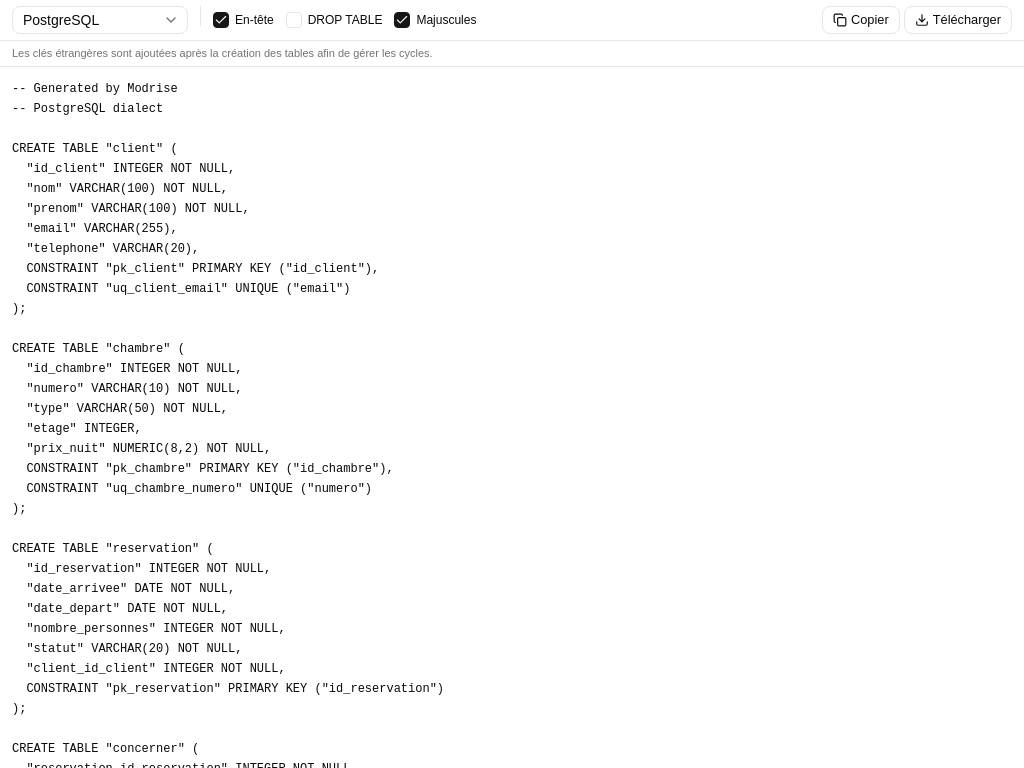
Scenario: SqlPreviewPanel — sélecteur de dialecte › régénère le SQL et affiche la note dédiée quand on sélectionne MySQL
Click the dropdown with test id "sql-dialect-select" at (100, 20), box [12, 6, 188, 34]
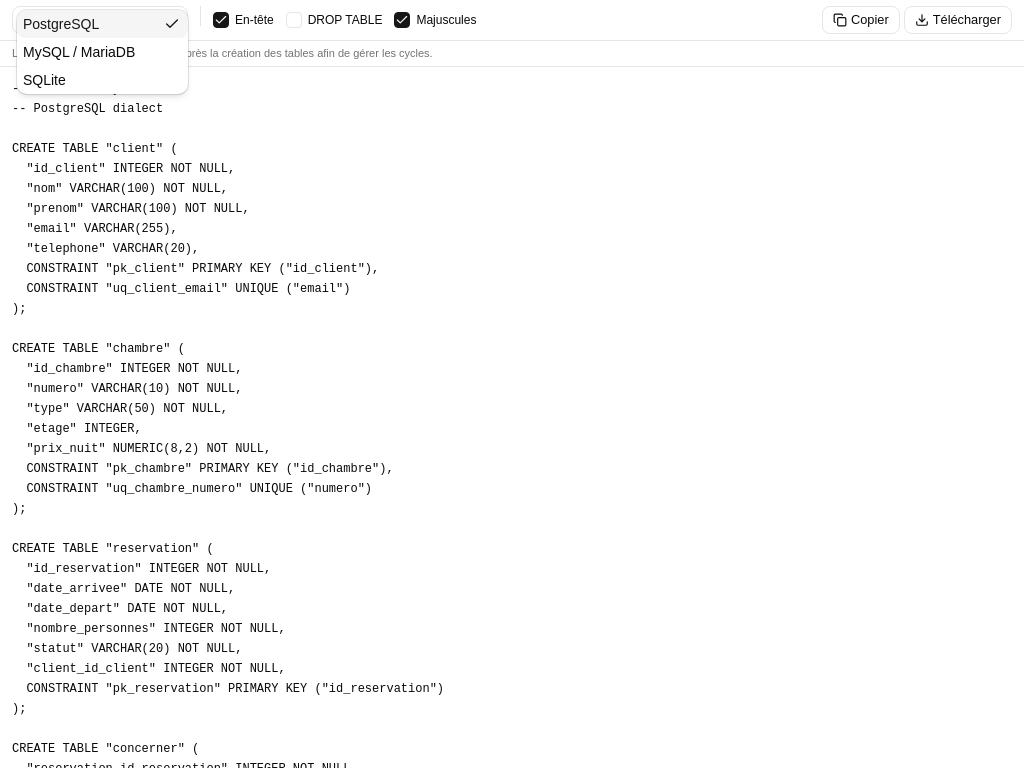
Click the option "MySQL / MariaDB" at (79, 52), box [23, 44, 135, 60]
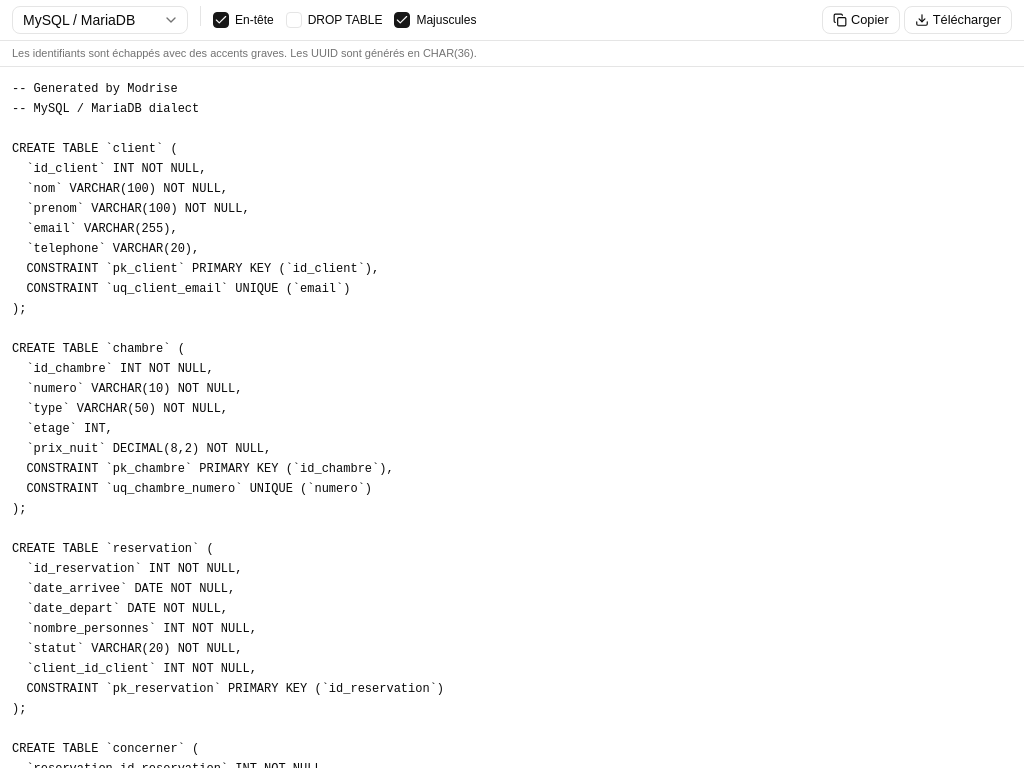
Now the text with test id "sql-dialect-note" shows "accents graves", box [12, 47, 477, 59]
